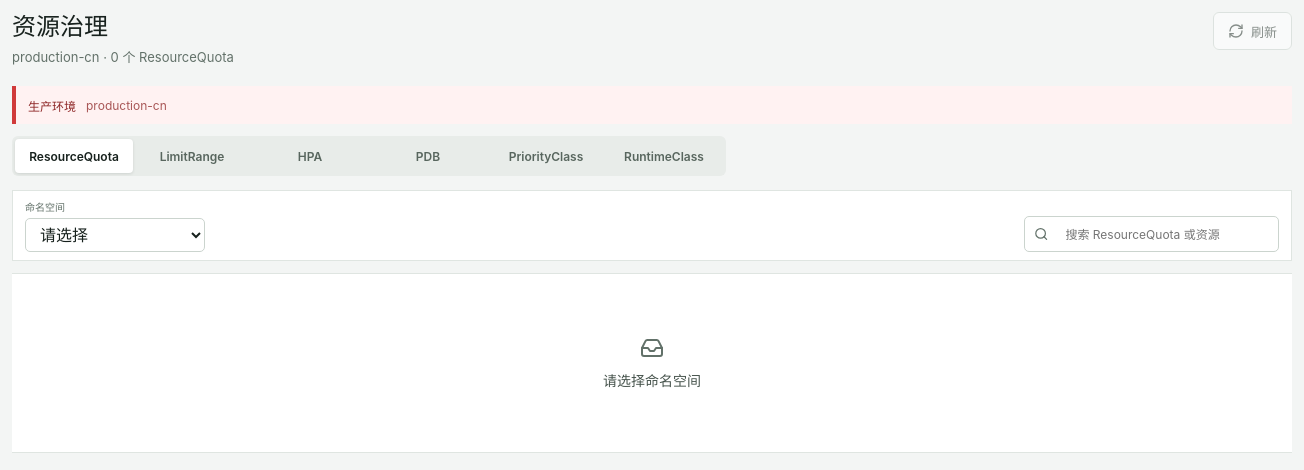
Test case: GovernancePage › requires an explicit namespace before reading policy objects
The image size is (1304, 470).
Check: the text "请选择命名空间" is shown, box [603,370,701,390]
Click the button "HPA" at (310, 156), box [251,139,369,173]
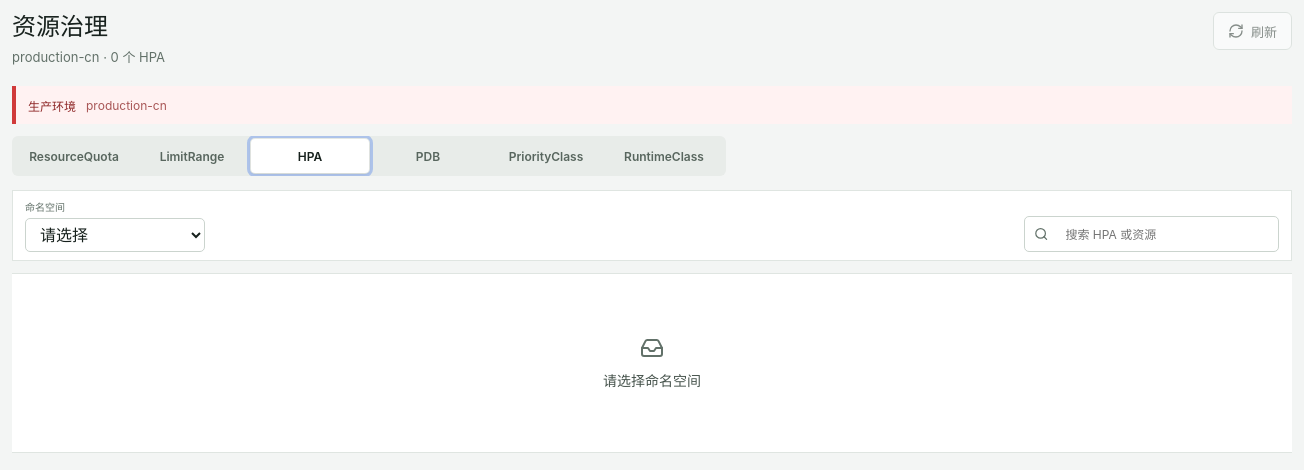
Select "payments" in the dropdown labelled "命名空间" at (115, 235), box [25,218,205,252]
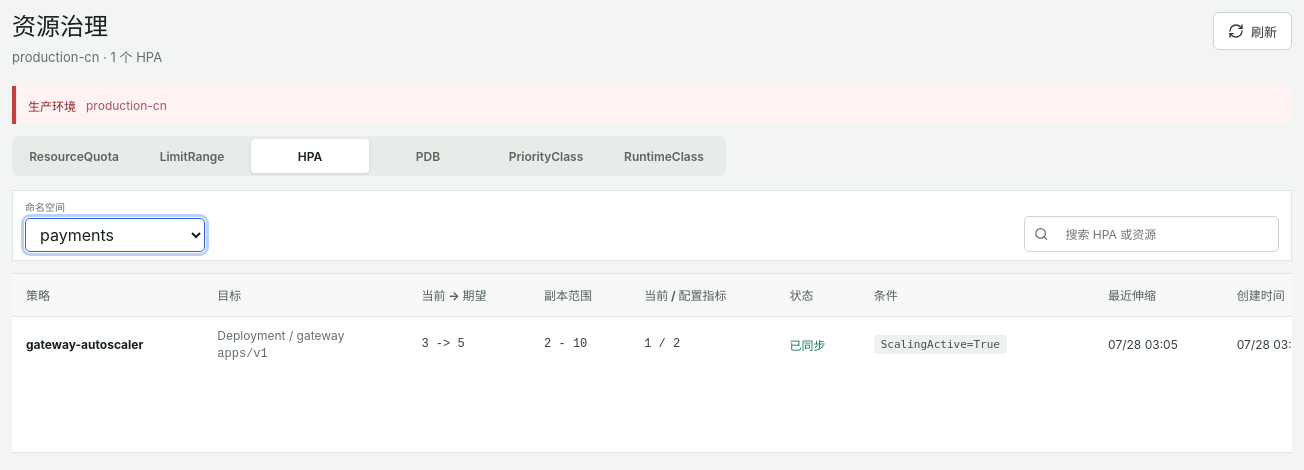
Check: the text "gateway-autoscaler" is shown, box [26,336,143,352]
